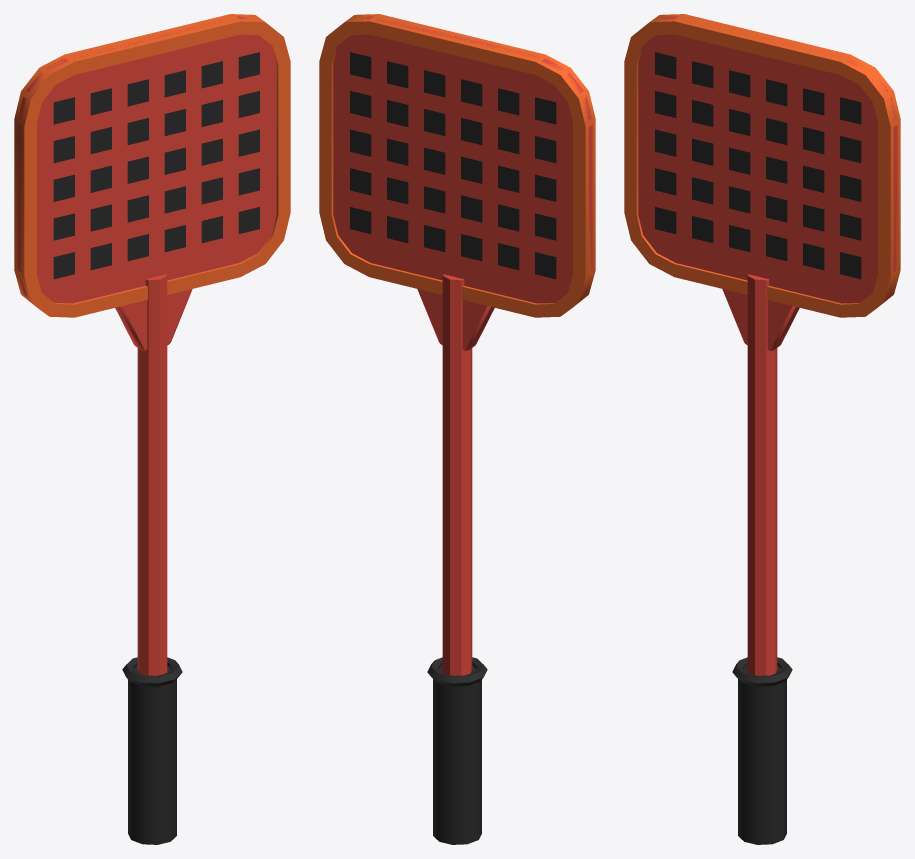
File: swatter.fbx
3 views of the same model, side by side, from view 1: azimuth 30°, elevation 25°; view 2: azimuth 150°, elevation 25°; view 3: azimuth 330°, elevation 25° (orthographic).
Parts seen in each view (by area): view 1: Swatter; view 2: Swatter; view 3: Swatter.
Boxes of the visible parts, <box> form: Swatter: <box>14,14,290,844</box>; Swatter: <box>319,14,595,844</box>; Swatter: <box>624,14,900,844</box>.
Bounding box in the file's own units: 0.085 × 0.243 × 0.016.
Materials: 1 (1 with a texture image).
